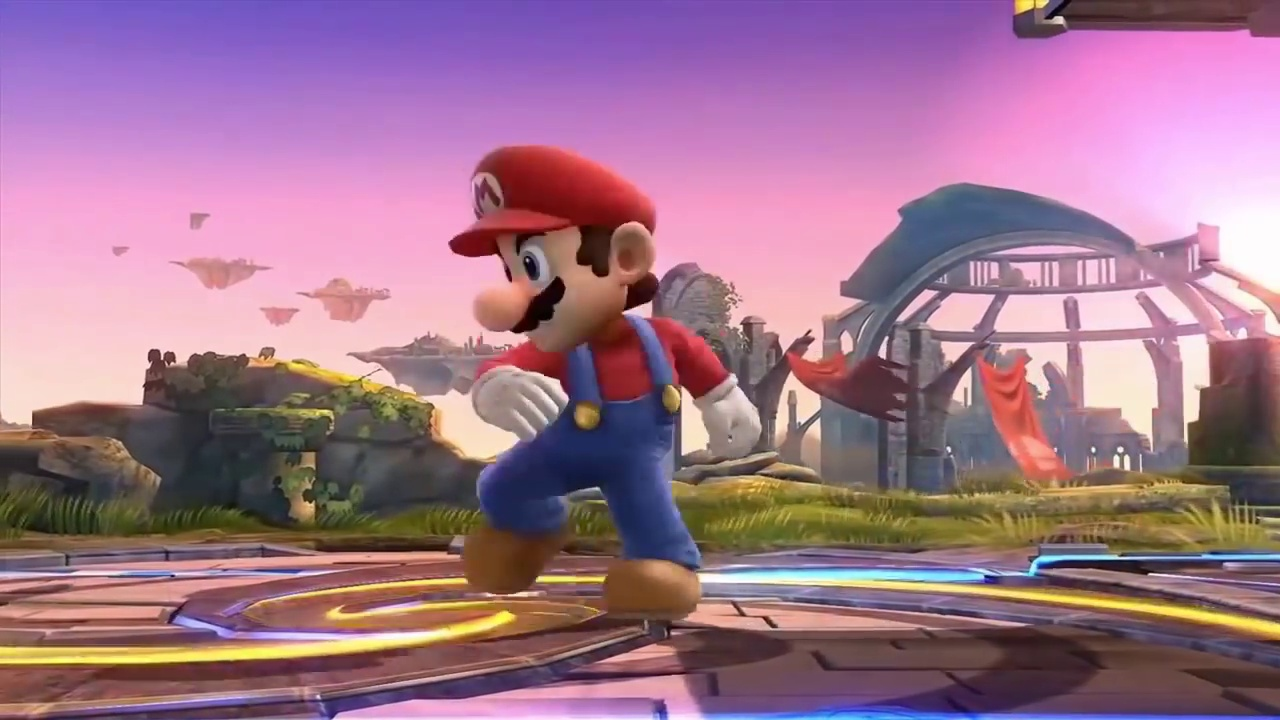Mario: (448, 145, 763, 617)
